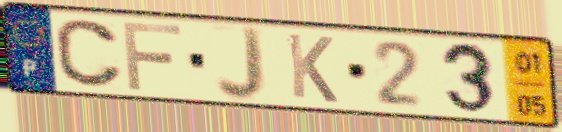2: (371, 39, 426, 110)
3: (439, 39, 502, 118)
C: (52, 17, 128, 90)
F: (119, 19, 186, 93)
J: (213, 23, 268, 104)
K: (283, 30, 340, 106)
